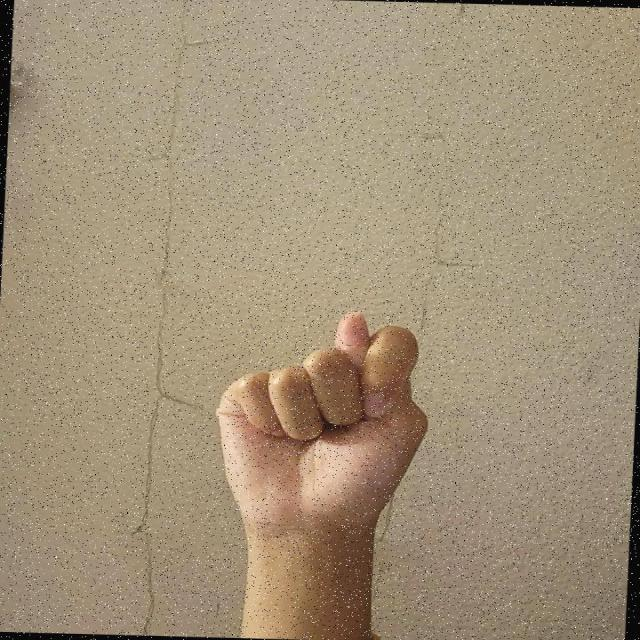T: (201, 301, 446, 534)
